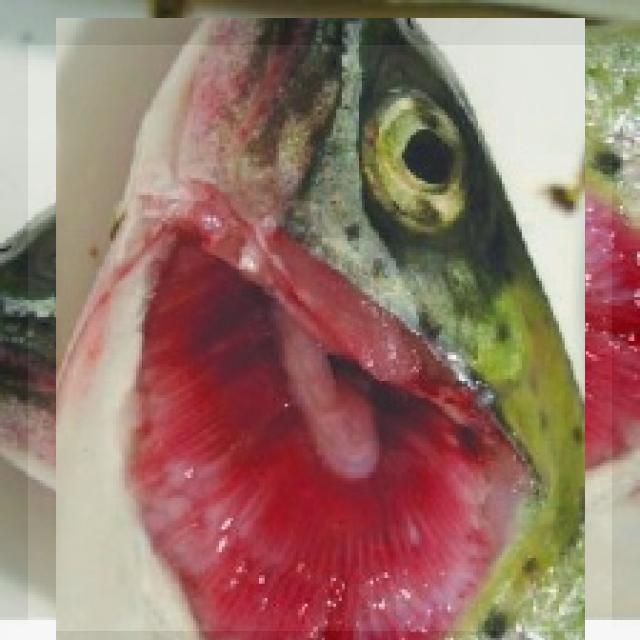Gill Disease: (28, 45, 612, 631)
